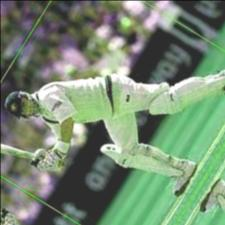batsman: (0, 61, 225, 207)
